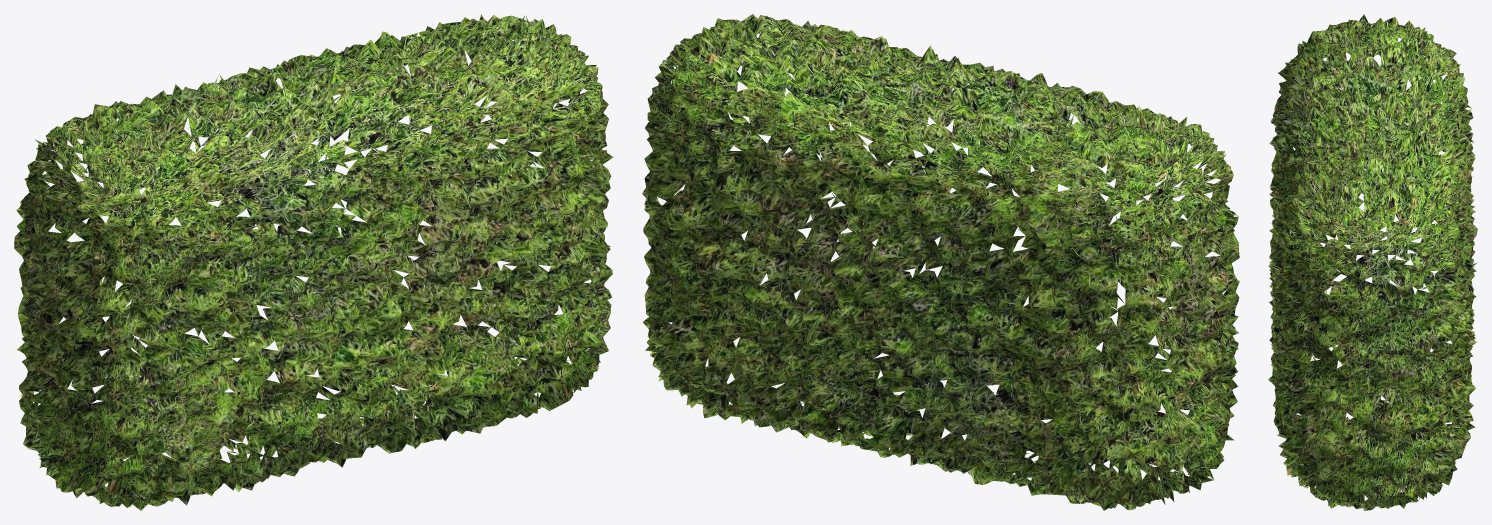
File: sweethome3d-scopia-hedge-346.glb
3 views of the same model, side by side, from view 1: azimuth 30°, elevation 25°; view 2: azimuth 150°, elevation 25°; view 3: azimuth 270°, elevation 25° (orthographic). The views are drawn at different scales.
Visible parts, largest first — view 1: Cube.001; view 2: Cube.001; view 3: Cube.001.
Boxes of the visible parts, x1,y1,x2,y2 form: Cube.001: (14, 14, 613, 510); Cube.001: (642, 14, 1239, 510); Cube.001: (1268, 14, 1477, 510).
Size of the model in its own units: 155 by 100 by 59.38.
1 material, 1 textured.
